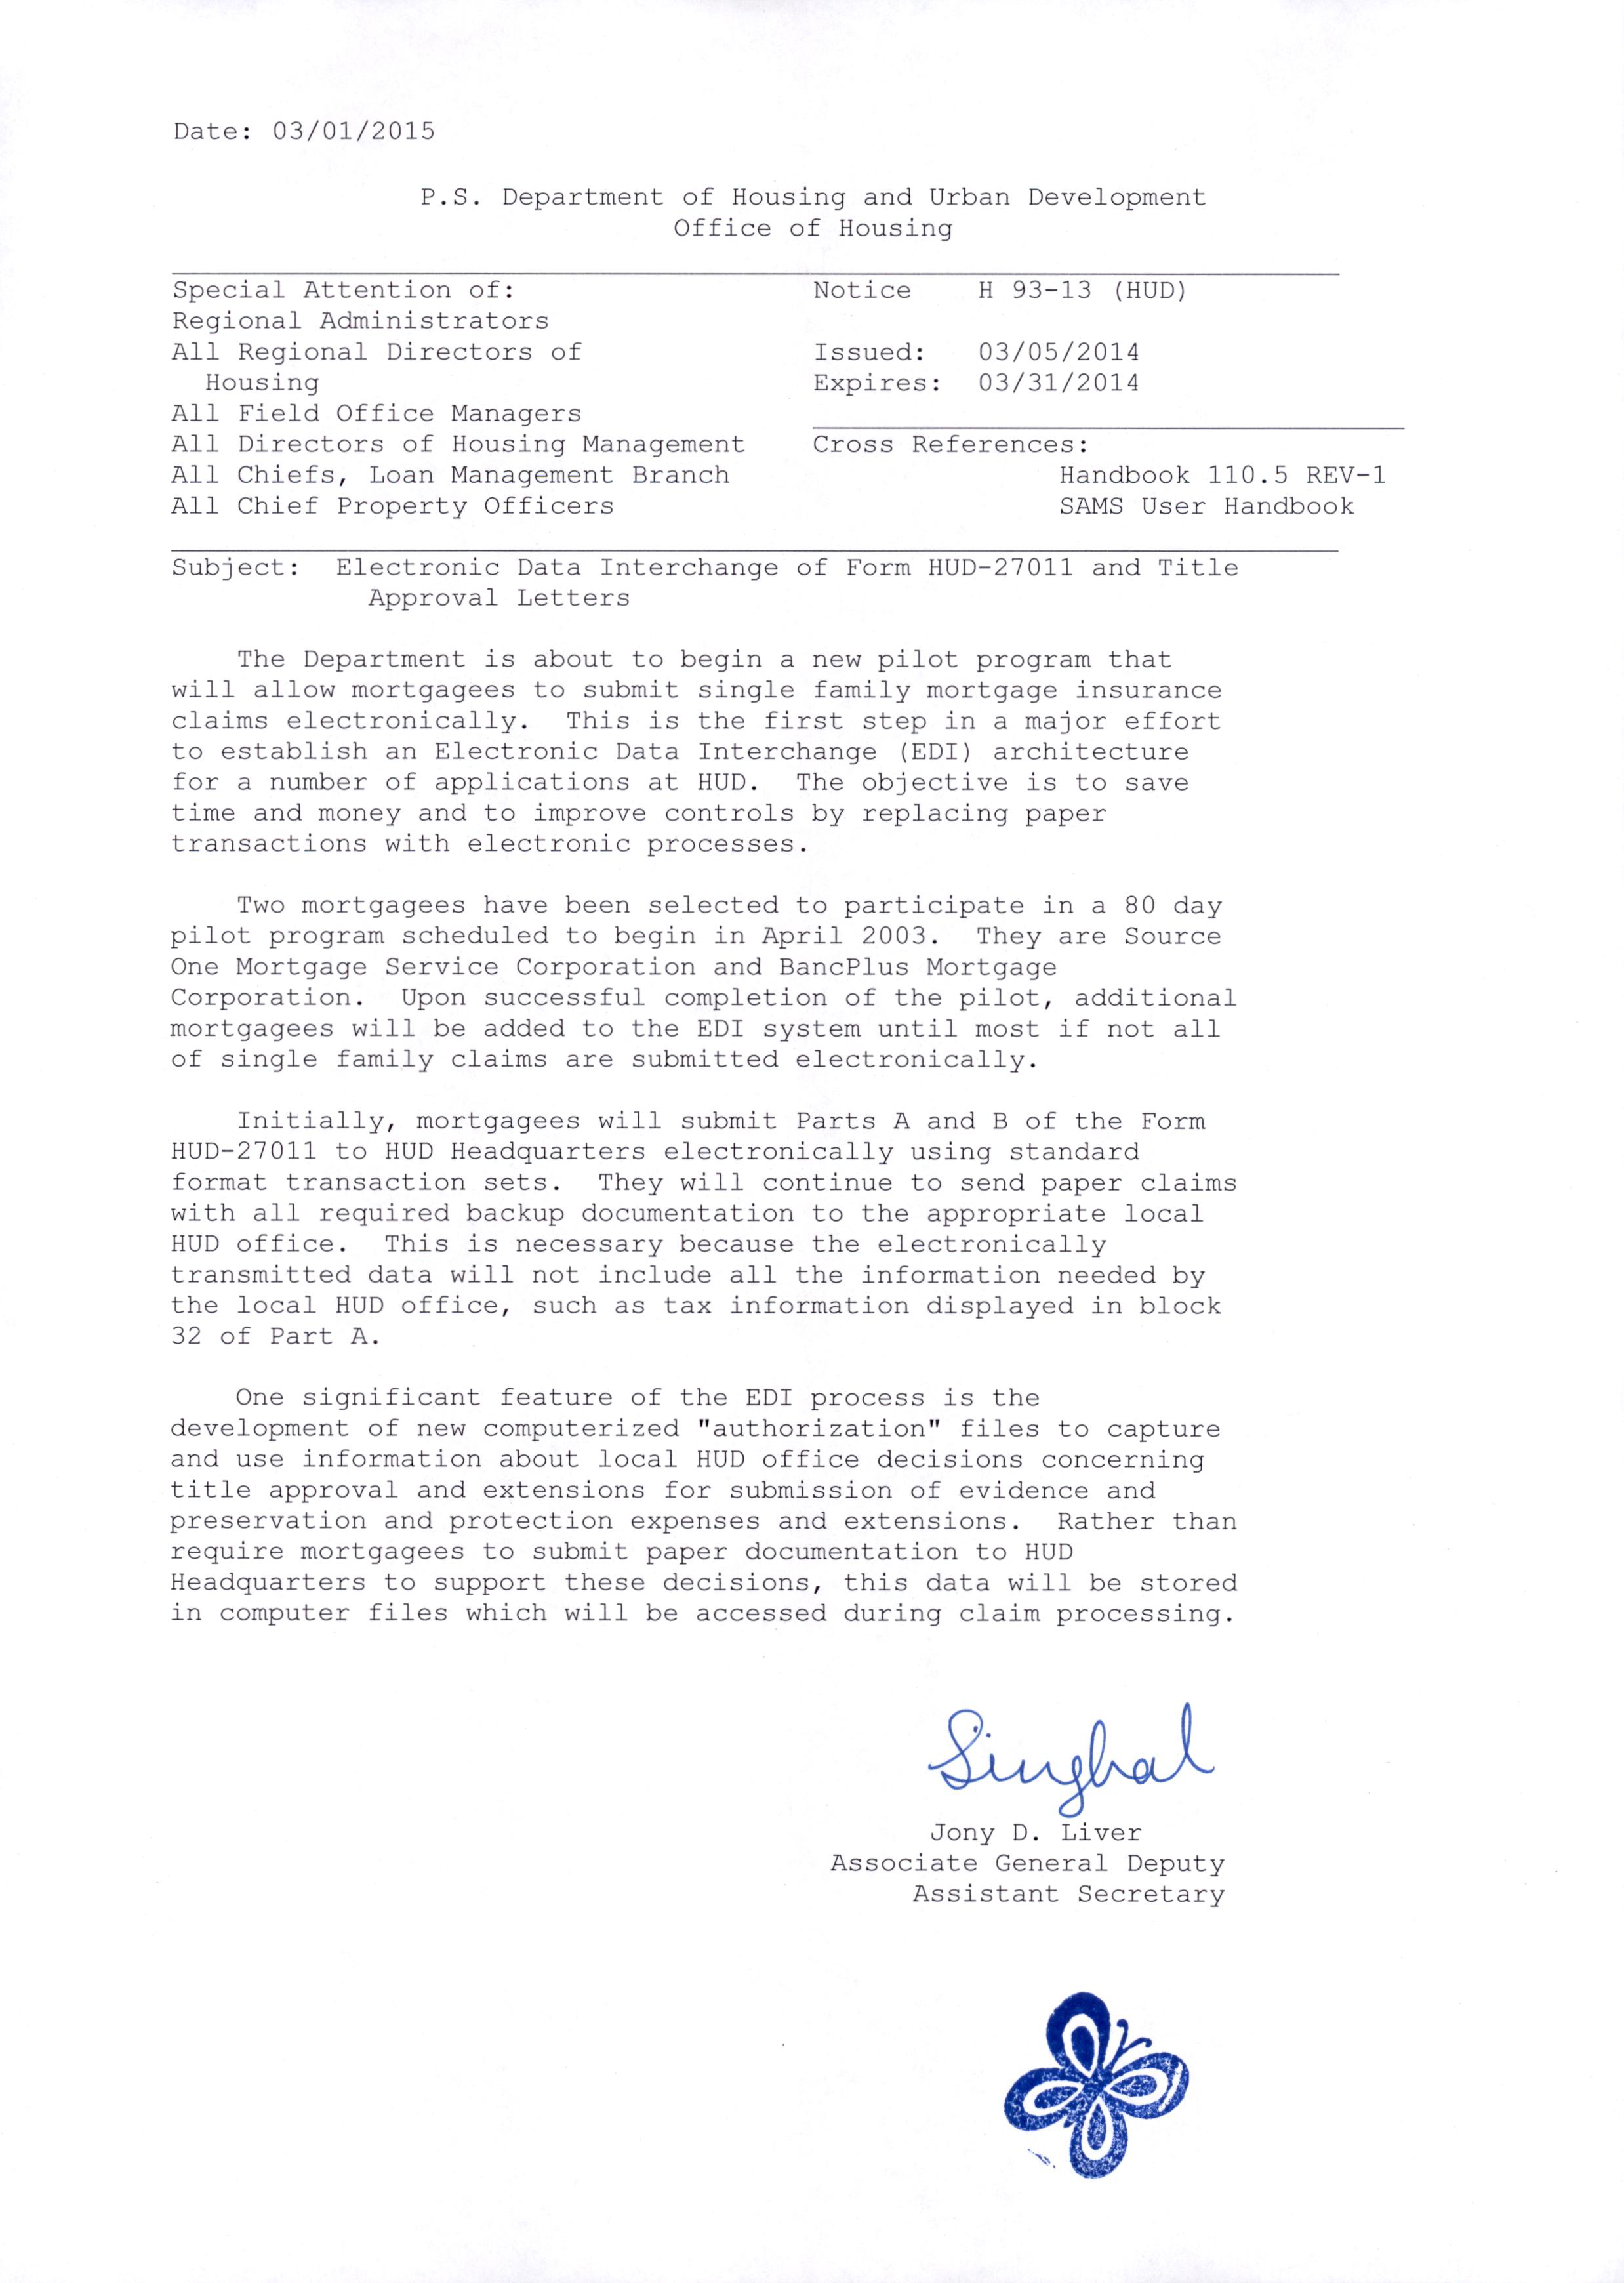Signature: (917, 1692, 1222, 1819)
